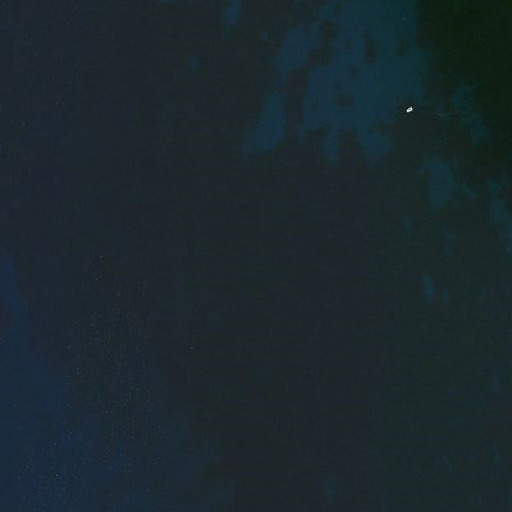ship: (405, 105, 415, 114)
